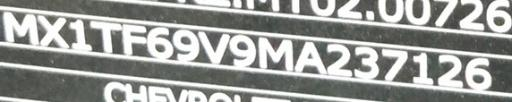letter: (256, 34, 294, 74), (2, 9, 42, 46), (196, 28, 232, 66), (36, 13, 72, 50), (90, 18, 124, 56), (294, 38, 328, 76), (170, 25, 202, 65), (322, 39, 354, 78), (228, 32, 258, 72), (351, 42, 381, 82), (464, 54, 496, 91), (379, 45, 409, 84), (436, 51, 466, 89), (144, 23, 174, 59), (66, 17, 94, 53), (121, 21, 149, 57), (410, 50, 436, 87)
